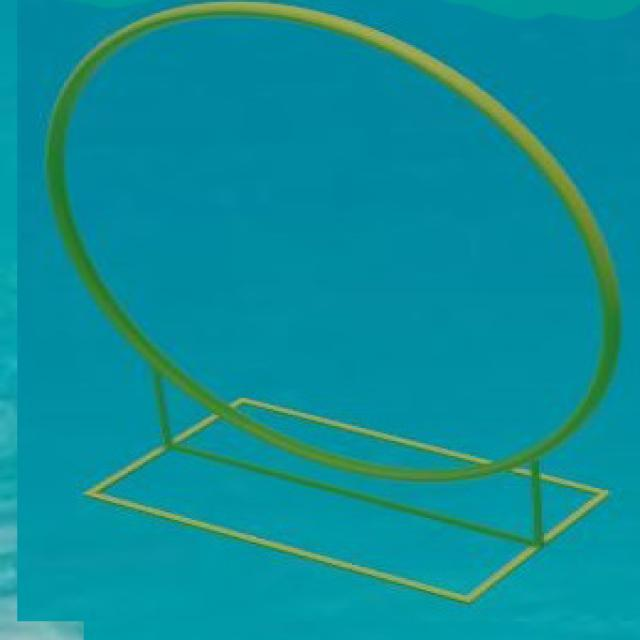Circle: (39, 0, 622, 488)
